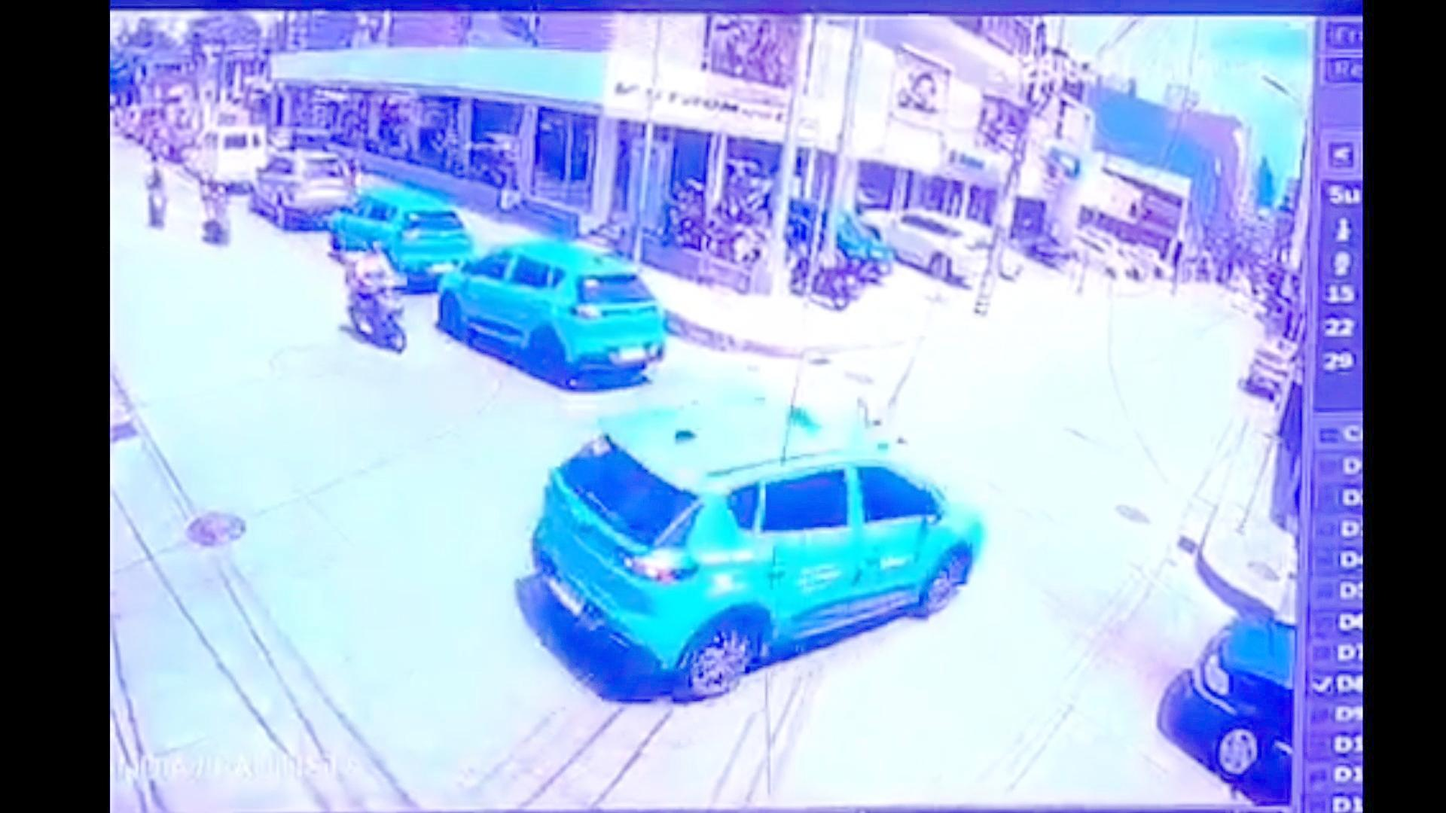Car: (520, 397, 983, 697), (436, 236, 669, 389), (1156, 593, 1296, 804), (328, 186, 475, 290), (871, 198, 1002, 284), (788, 204, 892, 284), (251, 148, 355, 226), (197, 126, 269, 186), (1053, 228, 1123, 280), (1245, 329, 1294, 395)
Motor: (334, 246, 414, 351), (789, 238, 863, 306), (199, 173, 233, 245), (1029, 236, 1075, 271), (145, 164, 167, 227)
